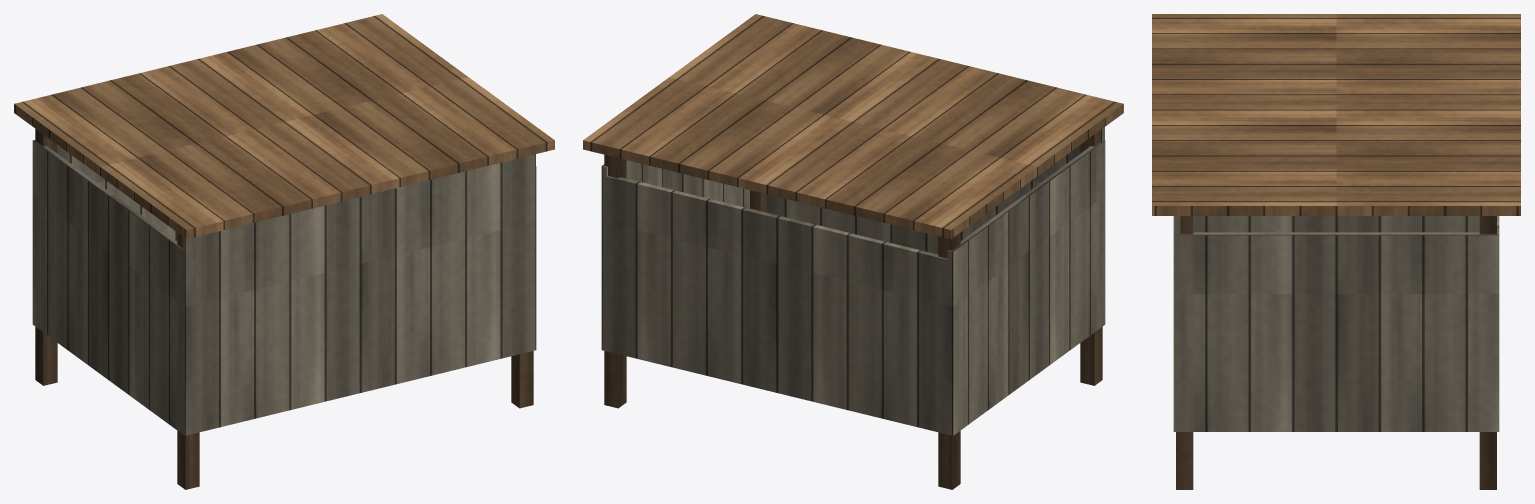
The model's file is Coop_1_LOD2.gltf.
3 views of the same model, side by side, from view 1: azimuth 30°, elevation 25°; view 2: azimuth 150°, elevation 25°; view 3: azimuth 270°, elevation 25° (orthographic). The views are drawn at different scales.
Visible parts, largest first — view 1: Coop_1_LOD2; view 2: Coop_1_LOD2; view 3: Coop_1_LOD2.
Part boxes in pixels (bbox=[...]): Coop_1_LOD2: bbox=[14, 14, 554, 489]; Coop_1_LOD2: bbox=[583, 14, 1123, 489]; Coop_1_LOD2: bbox=[1152, 14, 1520, 489].
Size of the model in its own units: 2.09 by 1.47 by 1.7.
4 materials, 4 textured.
